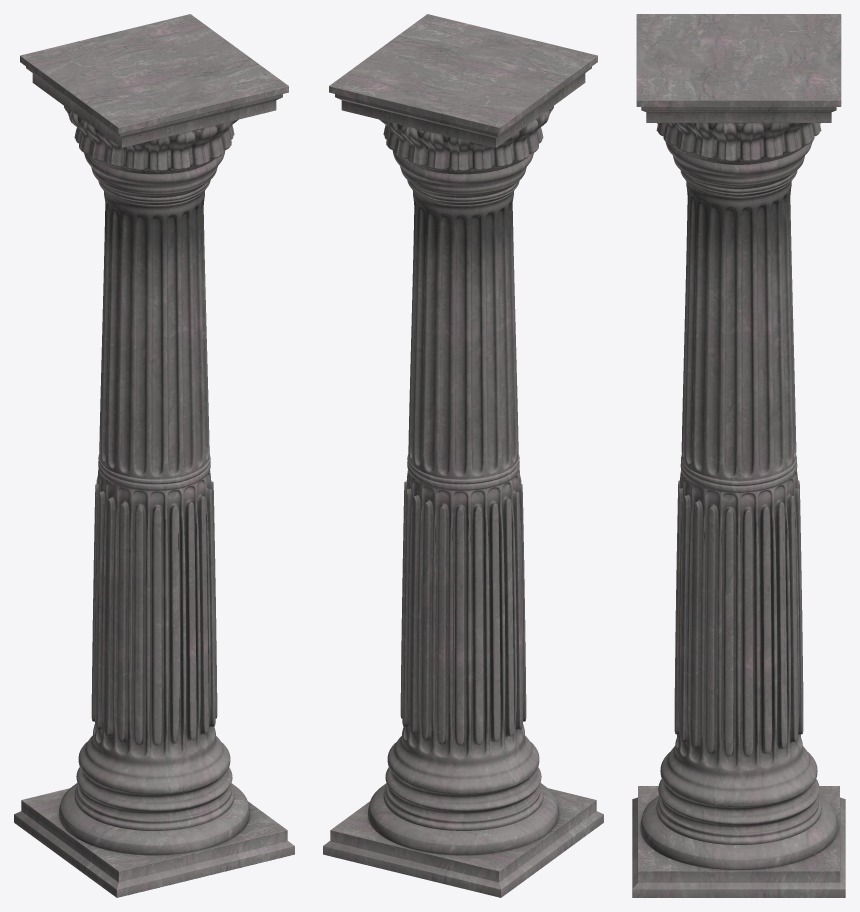
Rendered from 천사상2 받침대.fbx.
3 views of the same model, side by side, from view 1: azimuth 30°, elevation 25°; view 2: azimuth 150°, elevation 25°; view 3: azimuth 270°, elevation 25° (orthographic). The views are drawn at different scales.
Visible parts, largest first — view 1: ptolemaic Column; view 2: ptolemaic Column; view 3: ptolemaic Column.
Boxes of the visible parts, x1=… form: ptolemaic Column: x1=14, y1=14, x2=294, y2=897; ptolemaic Column: x1=323, y1=14, x2=603, y2=897; ptolemaic Column: x1=632, y1=14, x2=845, y2=897.
Size of the model in its own units: 302 by 1243 by 302.
